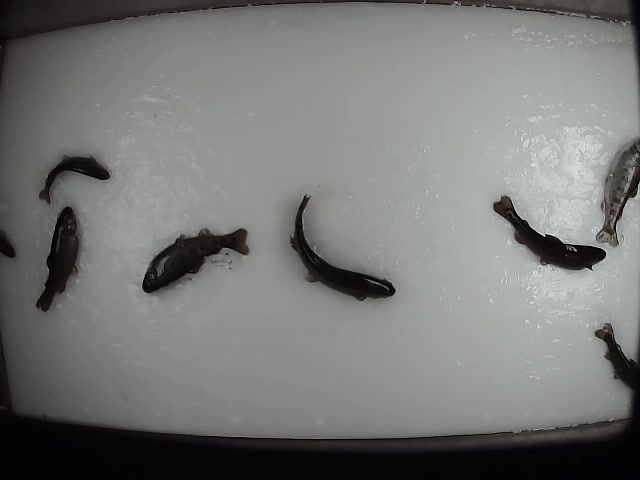fish: (282, 189, 398, 304), (491, 192, 607, 270), (140, 223, 252, 295), (583, 136, 640, 246), (34, 204, 81, 315), (34, 149, 109, 206)
